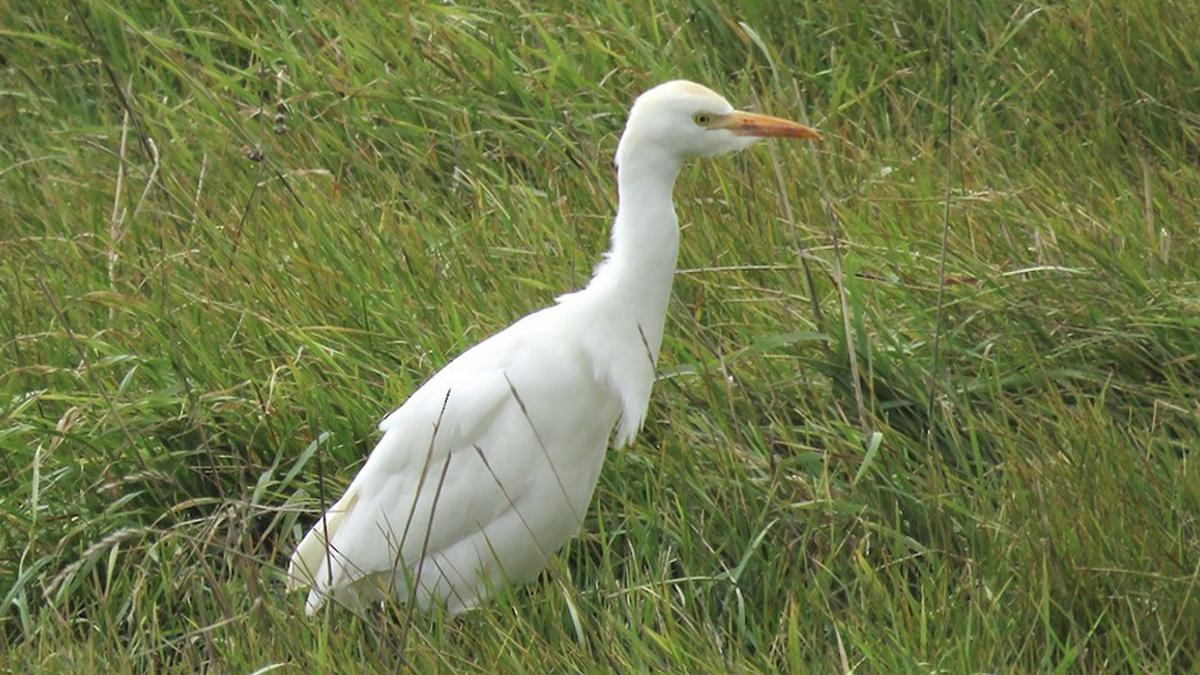egret: (296, 71, 821, 610)
